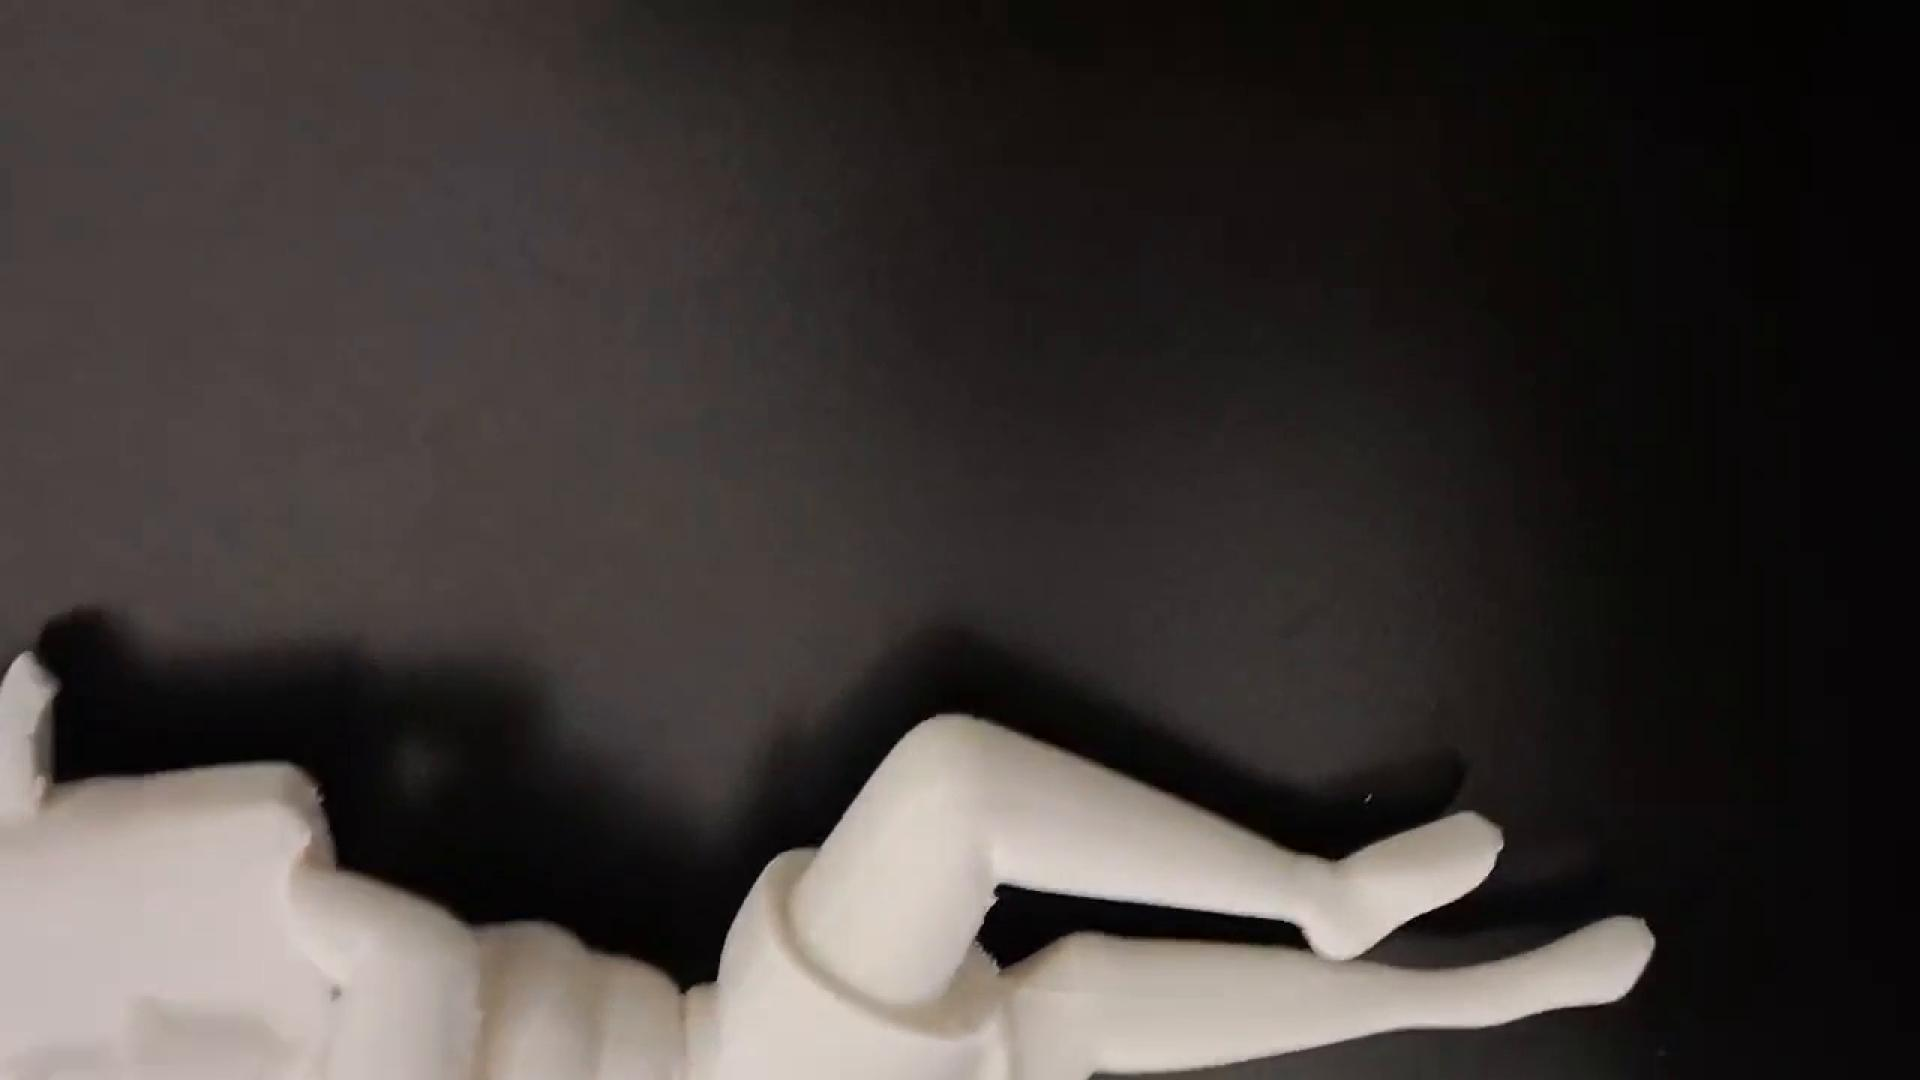Good-style: (0, 645, 1665, 1080)
